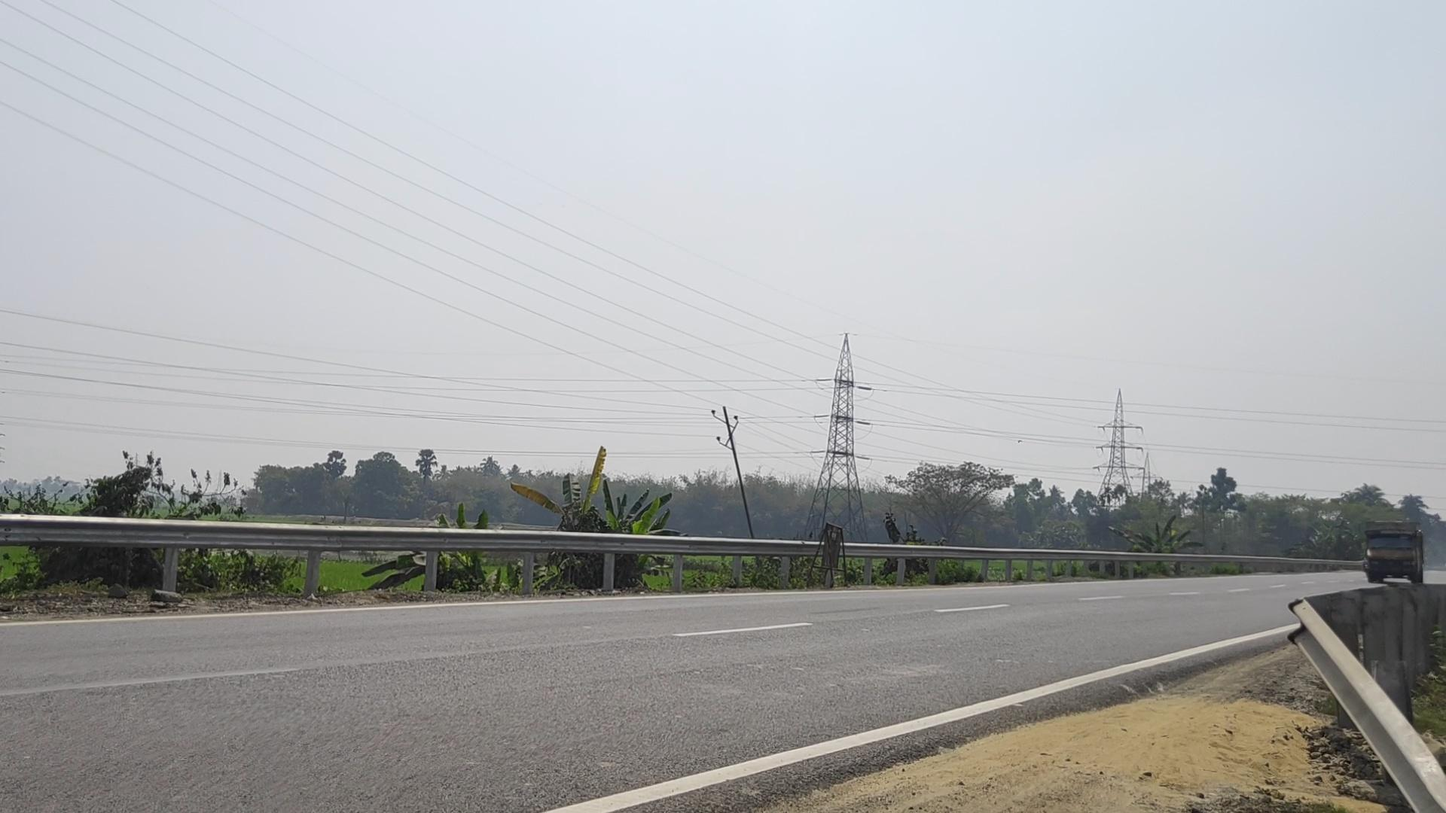truck: (1362, 519, 1426, 585)
